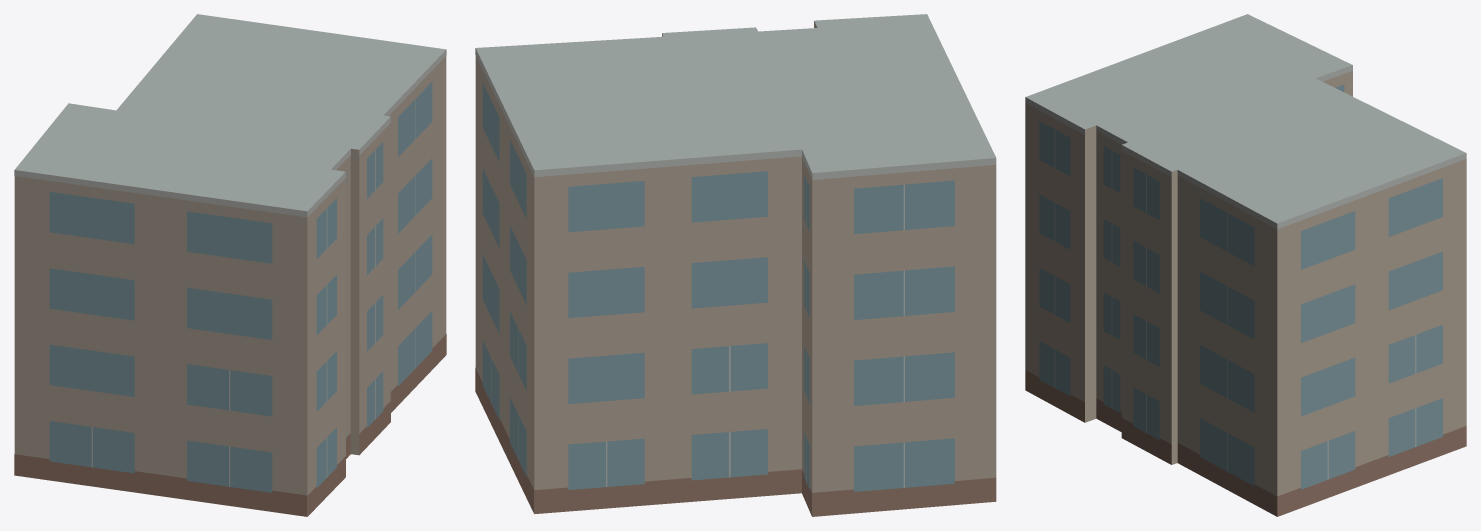
Rendered from survey-upis-32802489.glb.
3 renders of one model, left to right at view 1: azimuth 30°, elevation 25°; view 2: azimuth 150°, elevation 25°; view 3: azimuth 270°, elevation 25°, orthographic. The views are drawn at different scales.
Parts seen in each view (by area): view 1: survey-upis-32802489.tmp; view 2: survey-upis-32802489.tmp; view 3: survey-upis-32802489.tmp.
Boxes of the visible parts, x1=… form: survey-upis-32802489.tmp: x1=14, y1=14, x2=446, y2=516; survey-upis-32802489.tmp: x1=475, y1=14, x2=996, y2=516; survey-upis-32802489.tmp: x1=1025, y1=14, x2=1466, y2=516.
Size of the model in its own units: 18.86 by 12.3 by 16.78.
